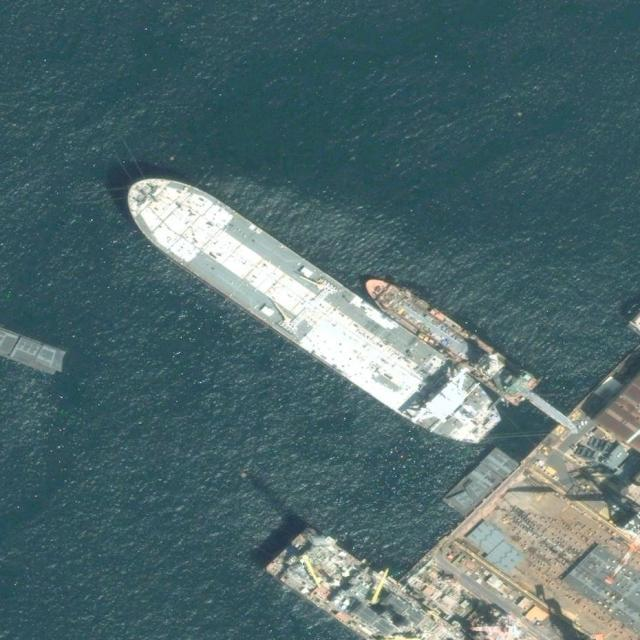Cargo: (107, 151, 516, 465), (354, 264, 542, 411)
Dock: (358, 264, 570, 431)
